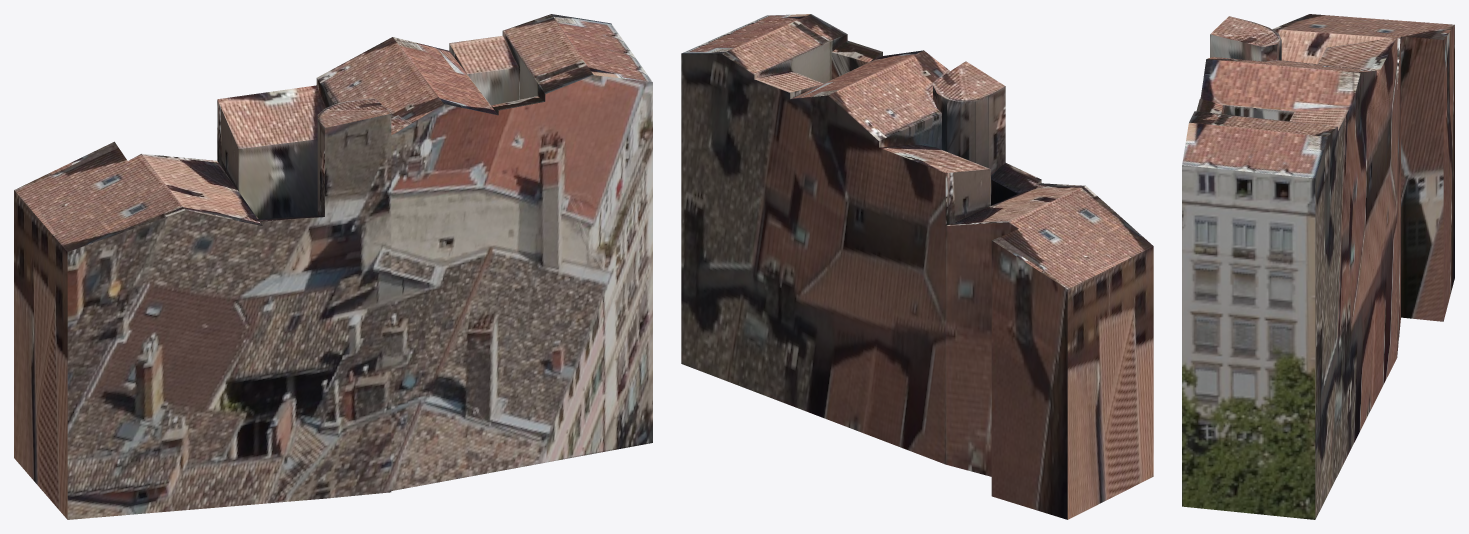
3 views of the same model, side by side, from view 1: azimuth 30°, elevation 25°; view 2: azimuth 150°, elevation 25°; view 3: azimuth 270°, elevation 25° (orthographic). The views are drawn at different scales.
Parts seen in each view (by area): view 1: Z_UP; view 2: Z_UP; view 3: Z_UP.
Part boxes in pixels (x1,y1,x2,y2): Z_UP: (14, 14, 652, 519); Z_UP: (681, 14, 1153, 519); Z_UP: (1182, 14, 1454, 519).
Bounding box in the file's own units: 37.51 × 24.82 × 17.13.
2 materials, 1 textured.
